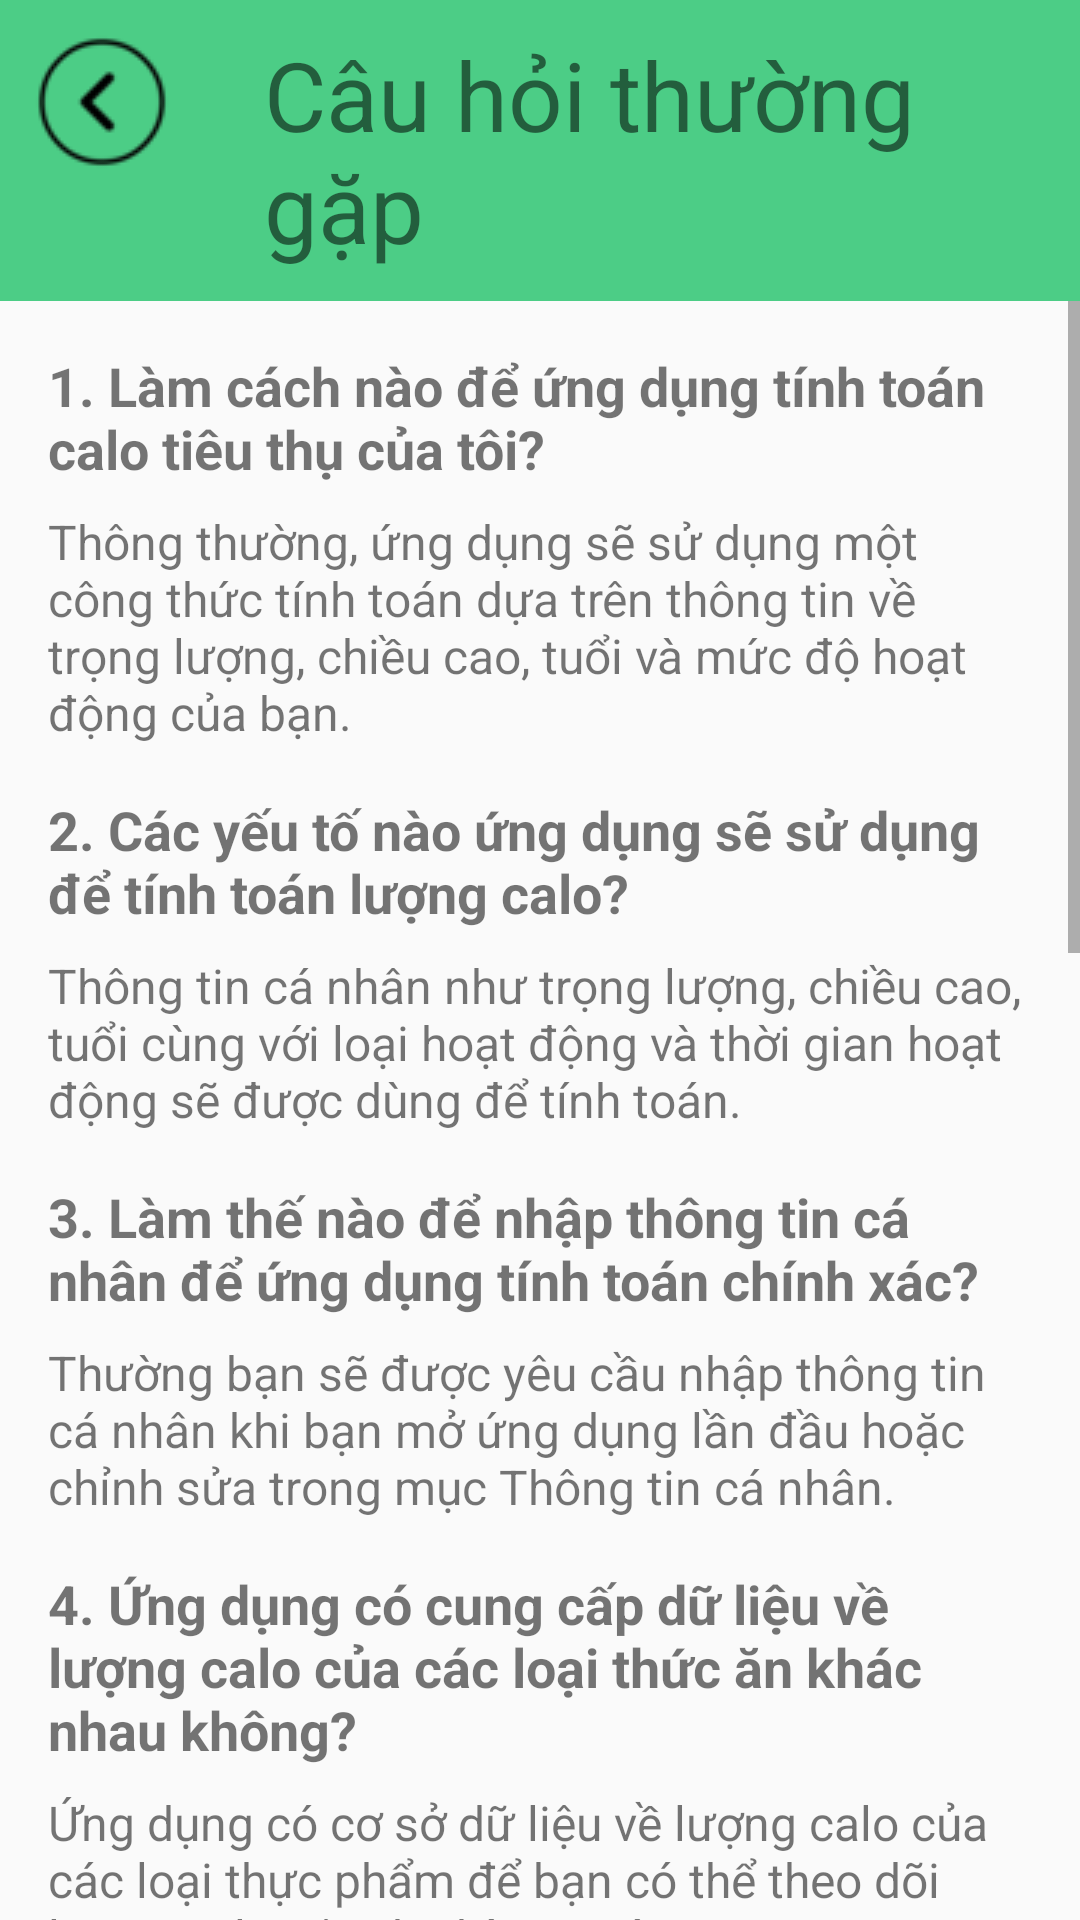

Icons on this 1080 x 1920 Android screen, each with the point to tap as (x=x, y=y):
back: (x=102, y=102)
